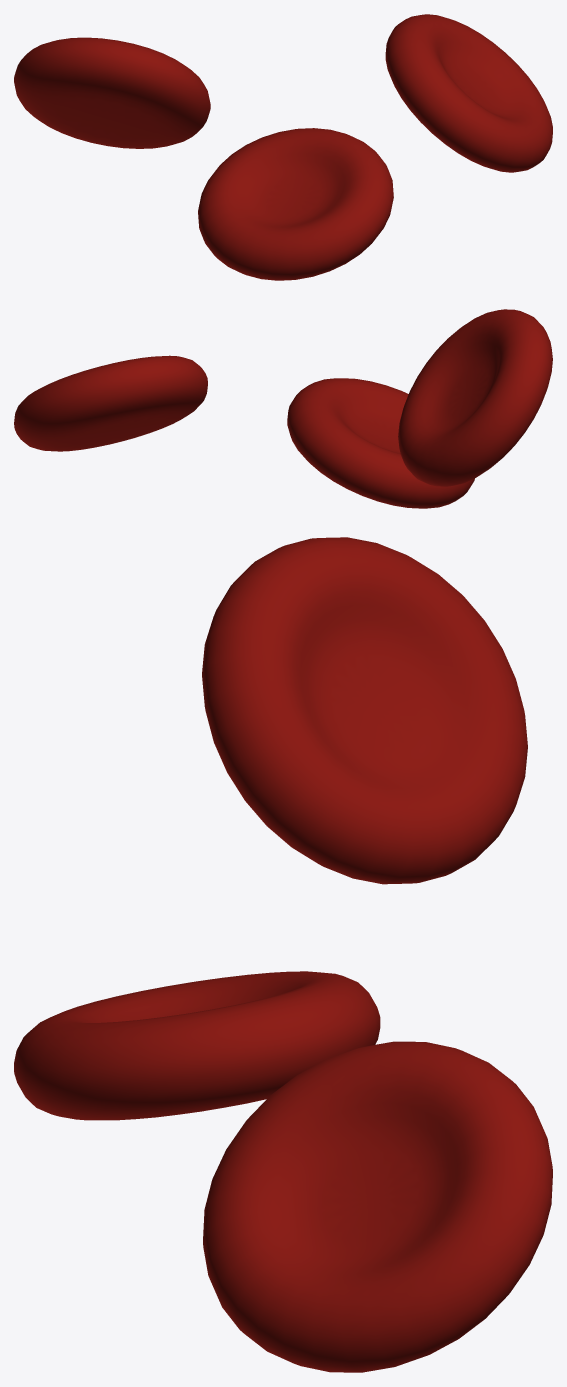
The model's file is rbc.glb.
3 renders of one model, top to bottom at view 1: azimuth 30°, elevation 25°; view 2: azimuth 150°, elevation 25°; view 3: azimuth 270°, elevation 25°, orthographic. The views are drawn at different scales.
Parts seen in each view (by area): view 1: Torus.002_0; view 2: Torus.002_0; view 3: Torus.002_0.
Boxes of the visible parts, x1,y1,x2,y2 form: Torus.002_0: (14, 14, 552, 280); Torus.002_0: (14, 309, 552, 508); Torus.002_0: (14, 537, 552, 1372).
Size of the model in its own units: 1.36 by 0.5846 by 0.6636.
